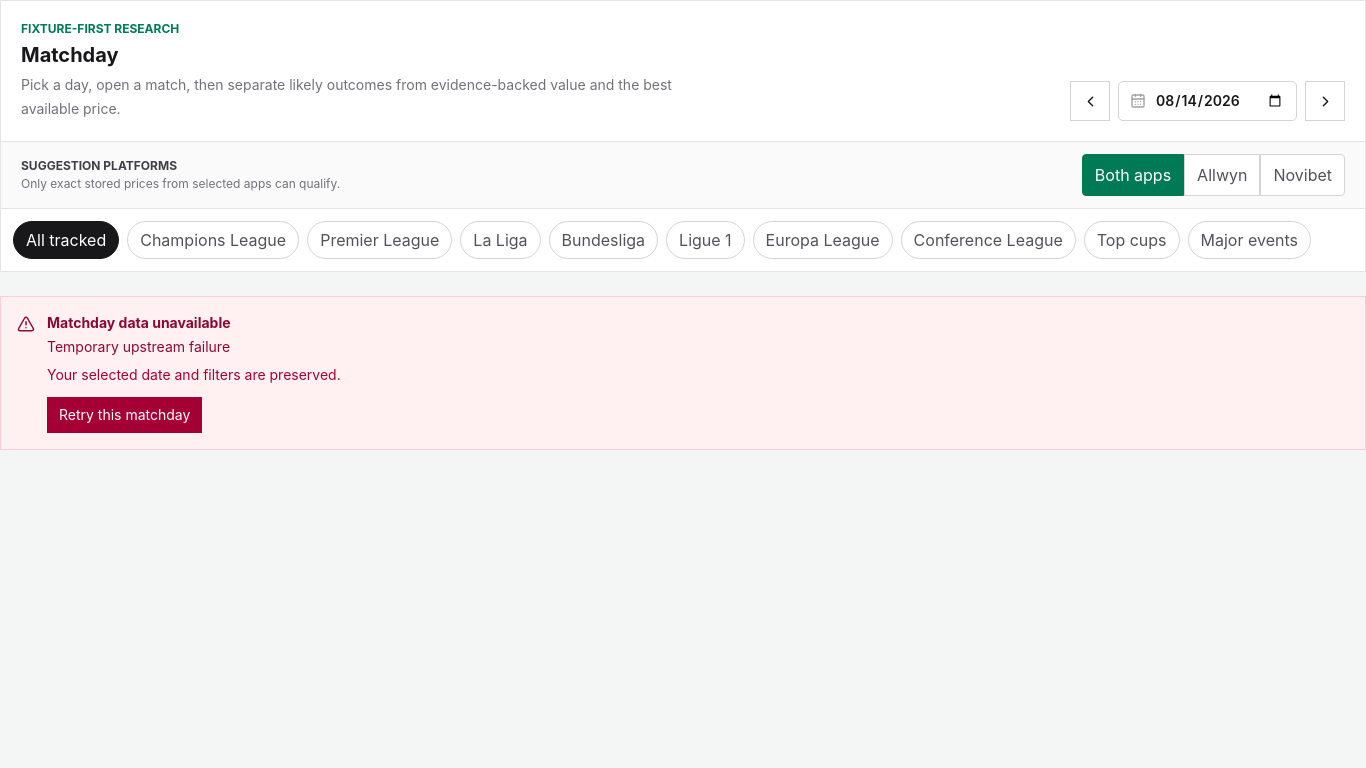
Test: MatchdayResearch › retries a failed matchday without losing the selected date
Expected: the message shows "Temporary upstream failure", 47,338 -> 230,355
Expected: the text "Your selected date and filters are preserved." is shown, 47,365 -> 341,385
Click the button "Retry this matchday" at {"x": 125, "y": 415}, box 47,397 -> 202,433
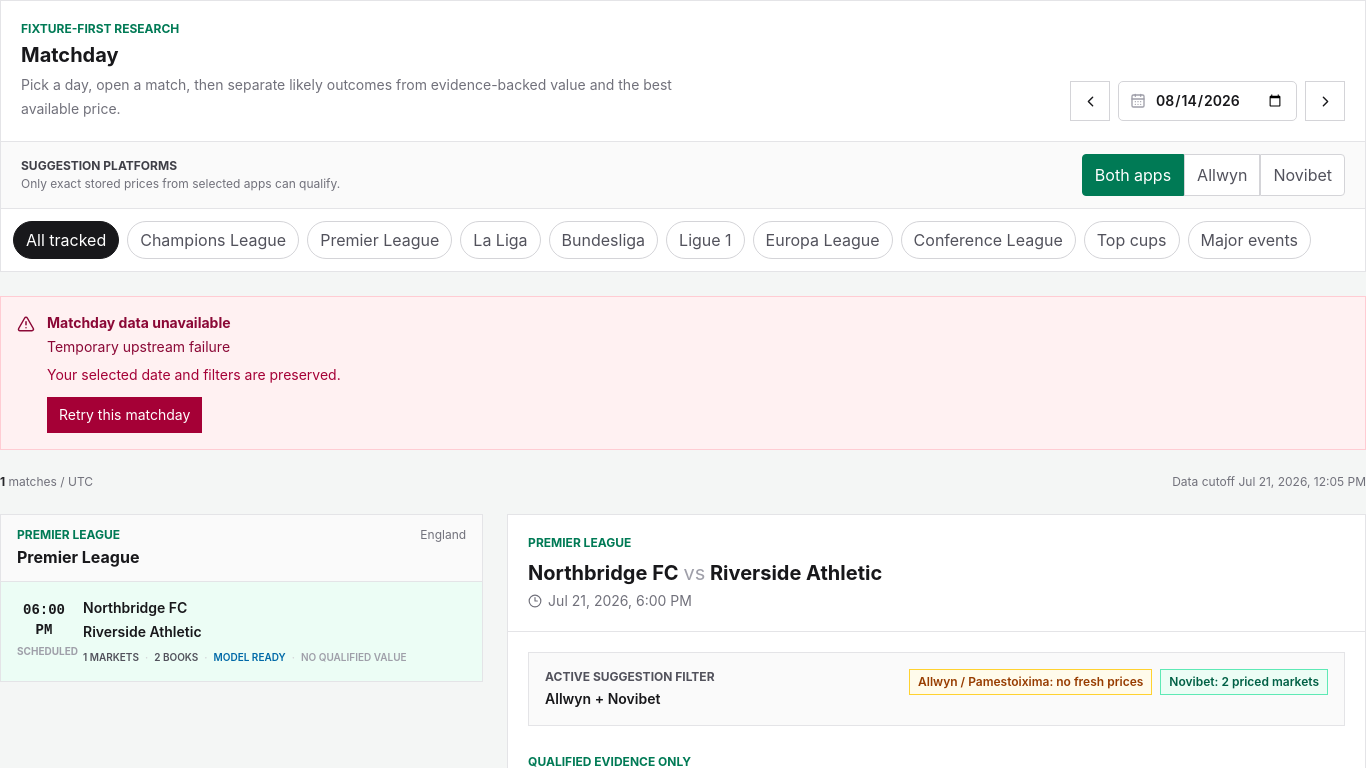
Result: the heading "Northbridge FC vs Riverside Athletic" is shown at 528,561 -> 882,585
